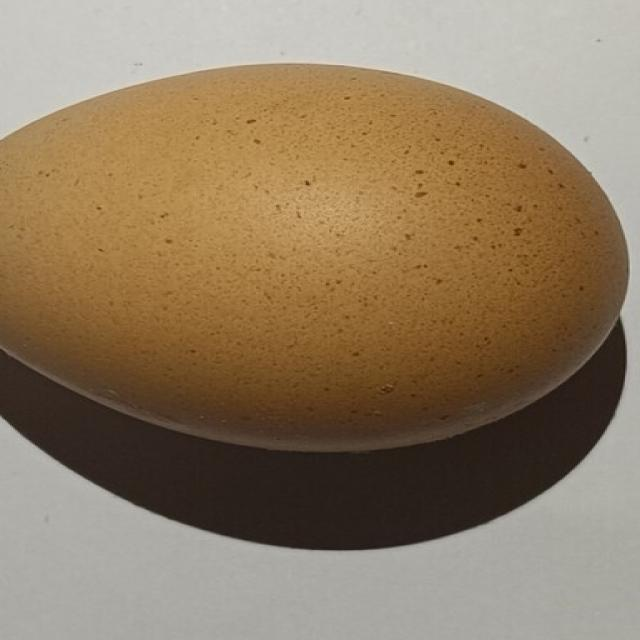unfresh: (0, 55, 633, 465)
